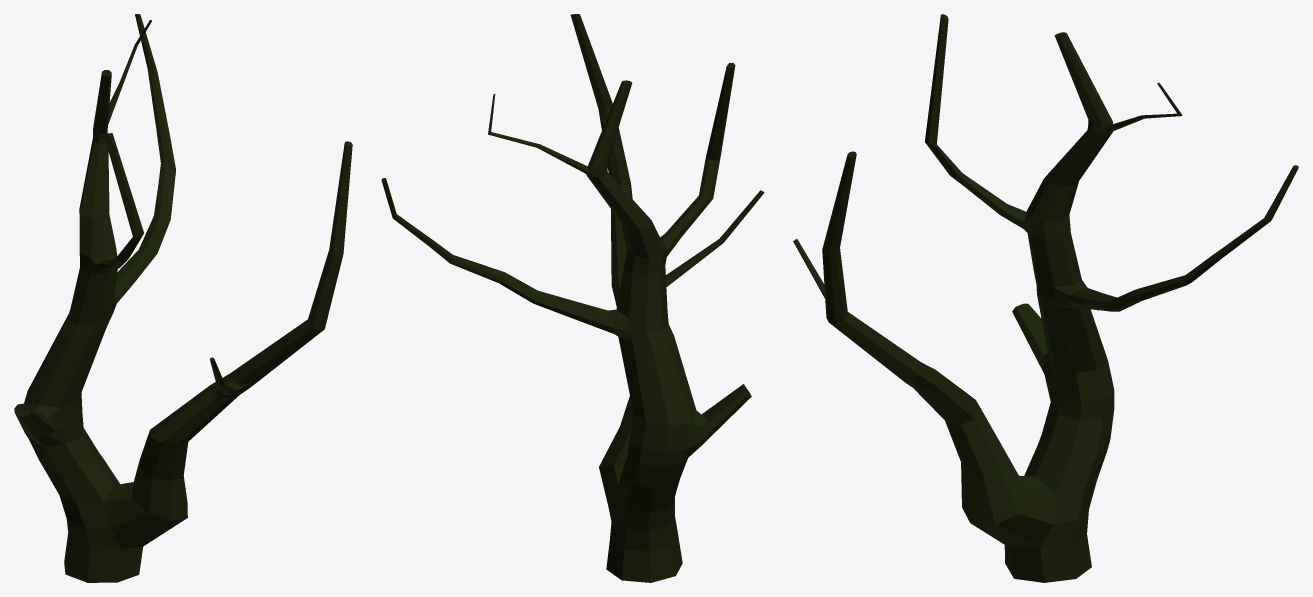
Rendered from deadtree3_treese_0_lev1.glb.
The picture shows the model from 3 angles, left to right: view 1: azimuth 30°, elevation 25°; view 2: azimuth 150°, elevation 25°; view 3: azimuth 270°, elevation 25°; orthographic projection. The views are drawn at different scales.
Parts seen in each view (by area): view 1: deadtree3_treese_0_lev1; view 2: deadtree3_treese_0_lev1; view 3: deadtree3_treese_0_lev1.
Boxes of the visible parts, x1=… form: deadtree3_treese_0_lev1: x1=14, y1=14, x2=352, y2=582; deadtree3_treese_0_lev1: x1=381, y1=14, x2=764, y2=582; deadtree3_treese_0_lev1: x1=793, y1=14, x2=1298, y2=582.
Size of the model in its own units: 1.47 by 2.66 by 2.26.
